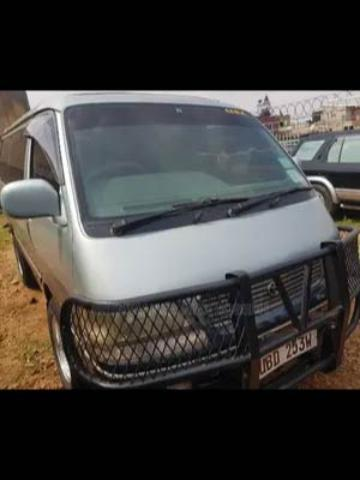van: (0, 93, 354, 385)
